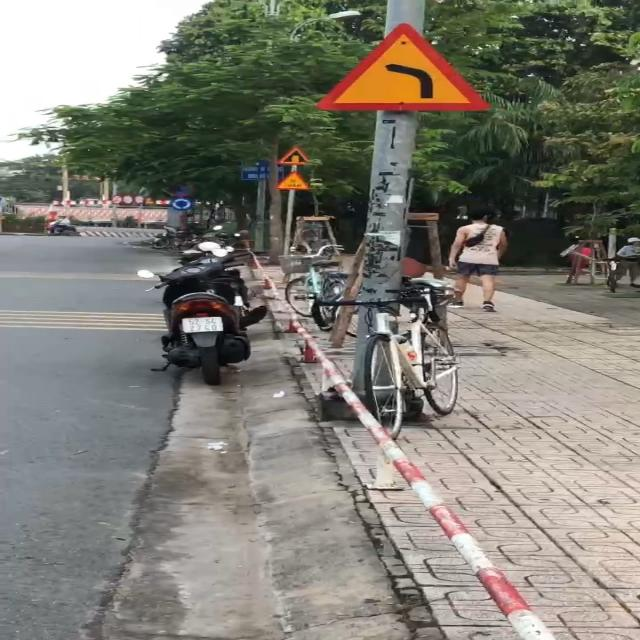Bien bao cho ngoat nguy hiem: (300, 18, 503, 114)
